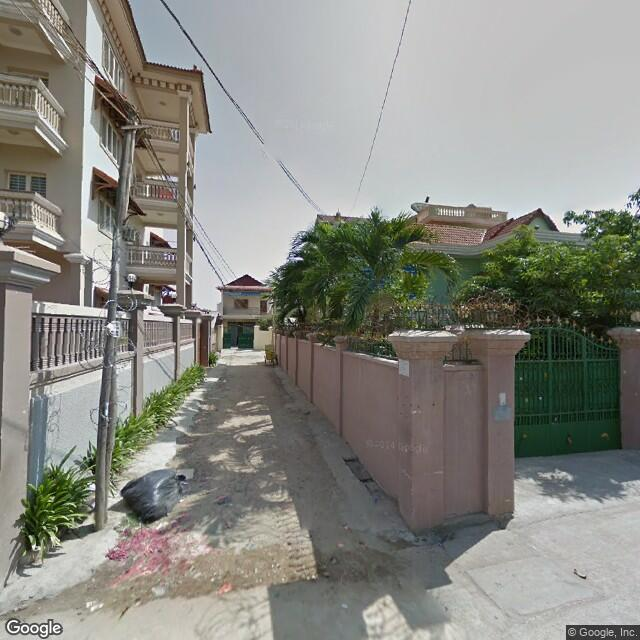litter: (103, 539, 131, 570), (80, 598, 107, 617)
